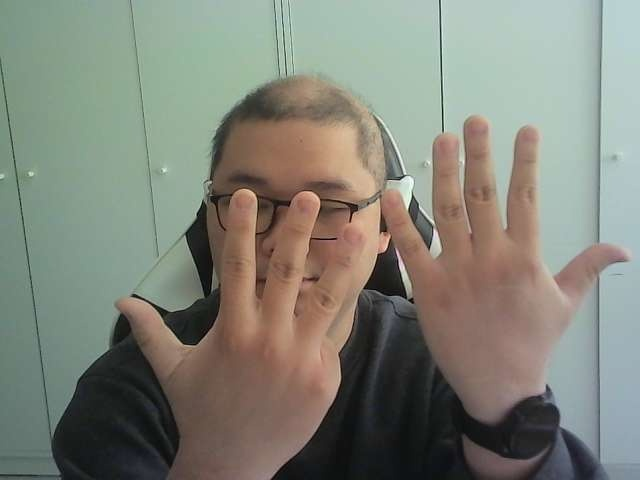Nine: (115, 113, 635, 454)
